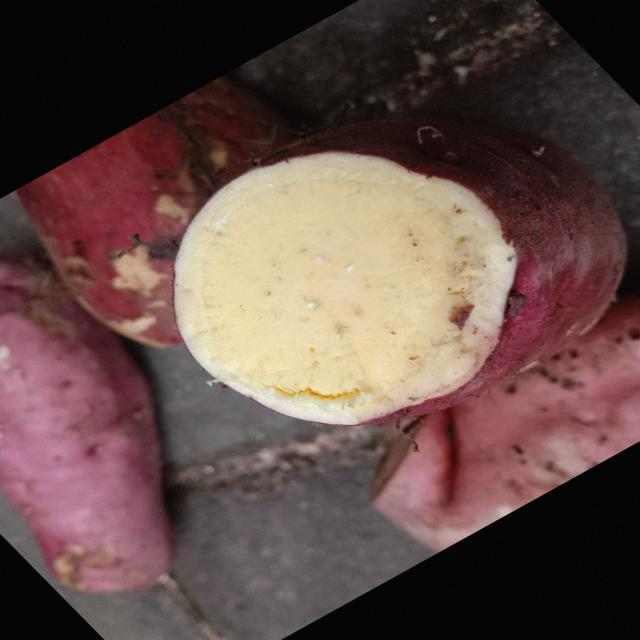Healthy Sweet Potato: (175, 152, 515, 424)
